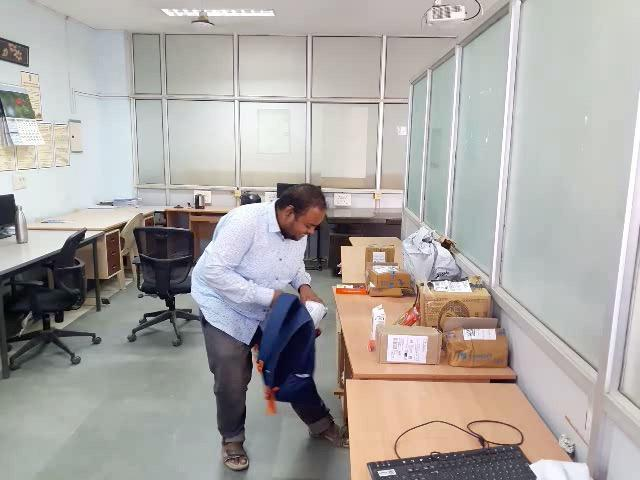shoplifting: (204, 248, 339, 439)
